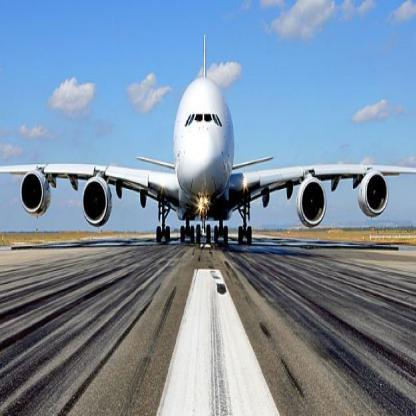CIV_Plane: (0, 30, 416, 253)
